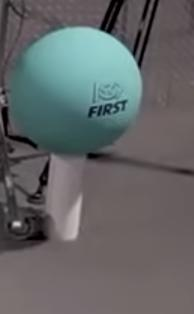algae: (8, 27, 142, 155)
coral: (44, 154, 87, 243)
